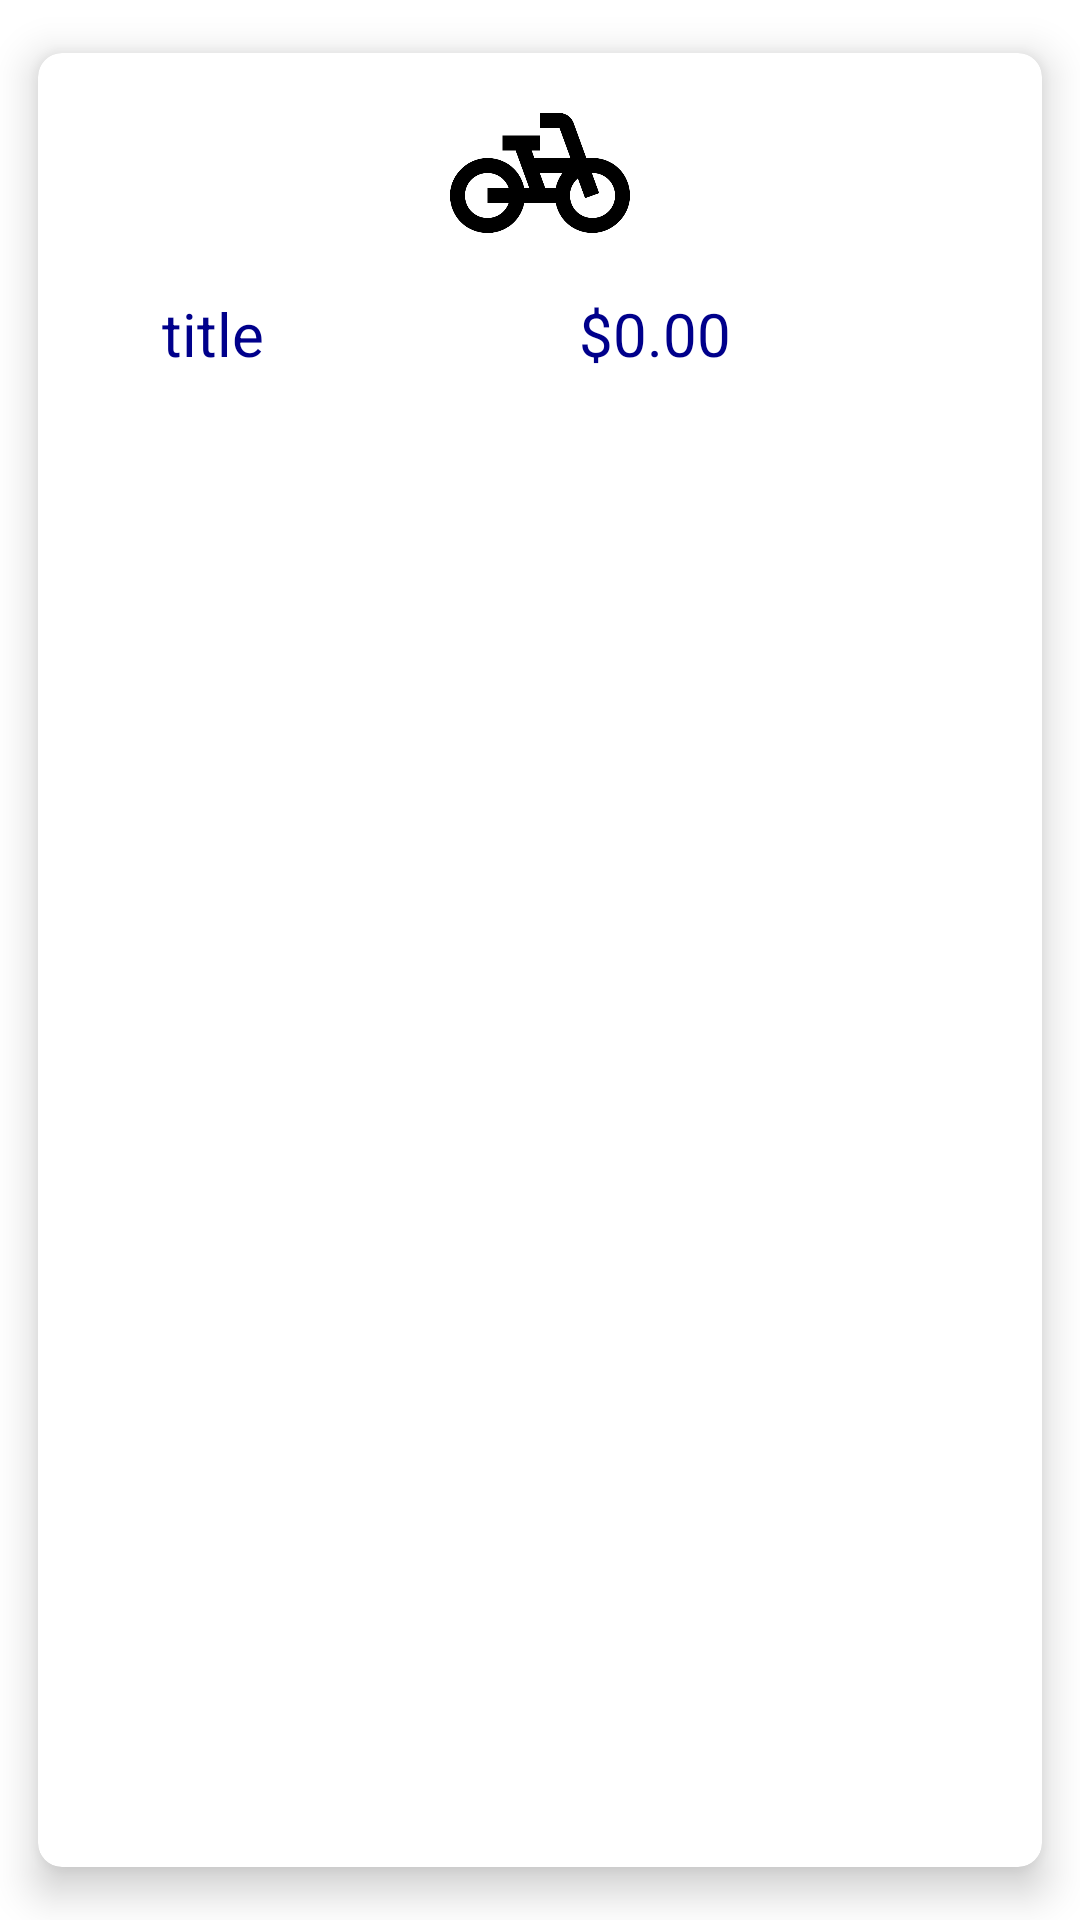

Named icons in this screenshot (1080 × 1920) and their bounding boxes, (x1, y1, x2, y2):
item image: (450, 113, 630, 233)
